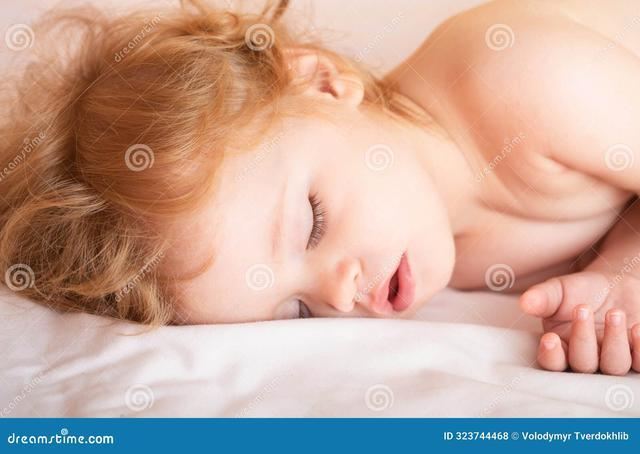sleep: (166, 101, 456, 323)
